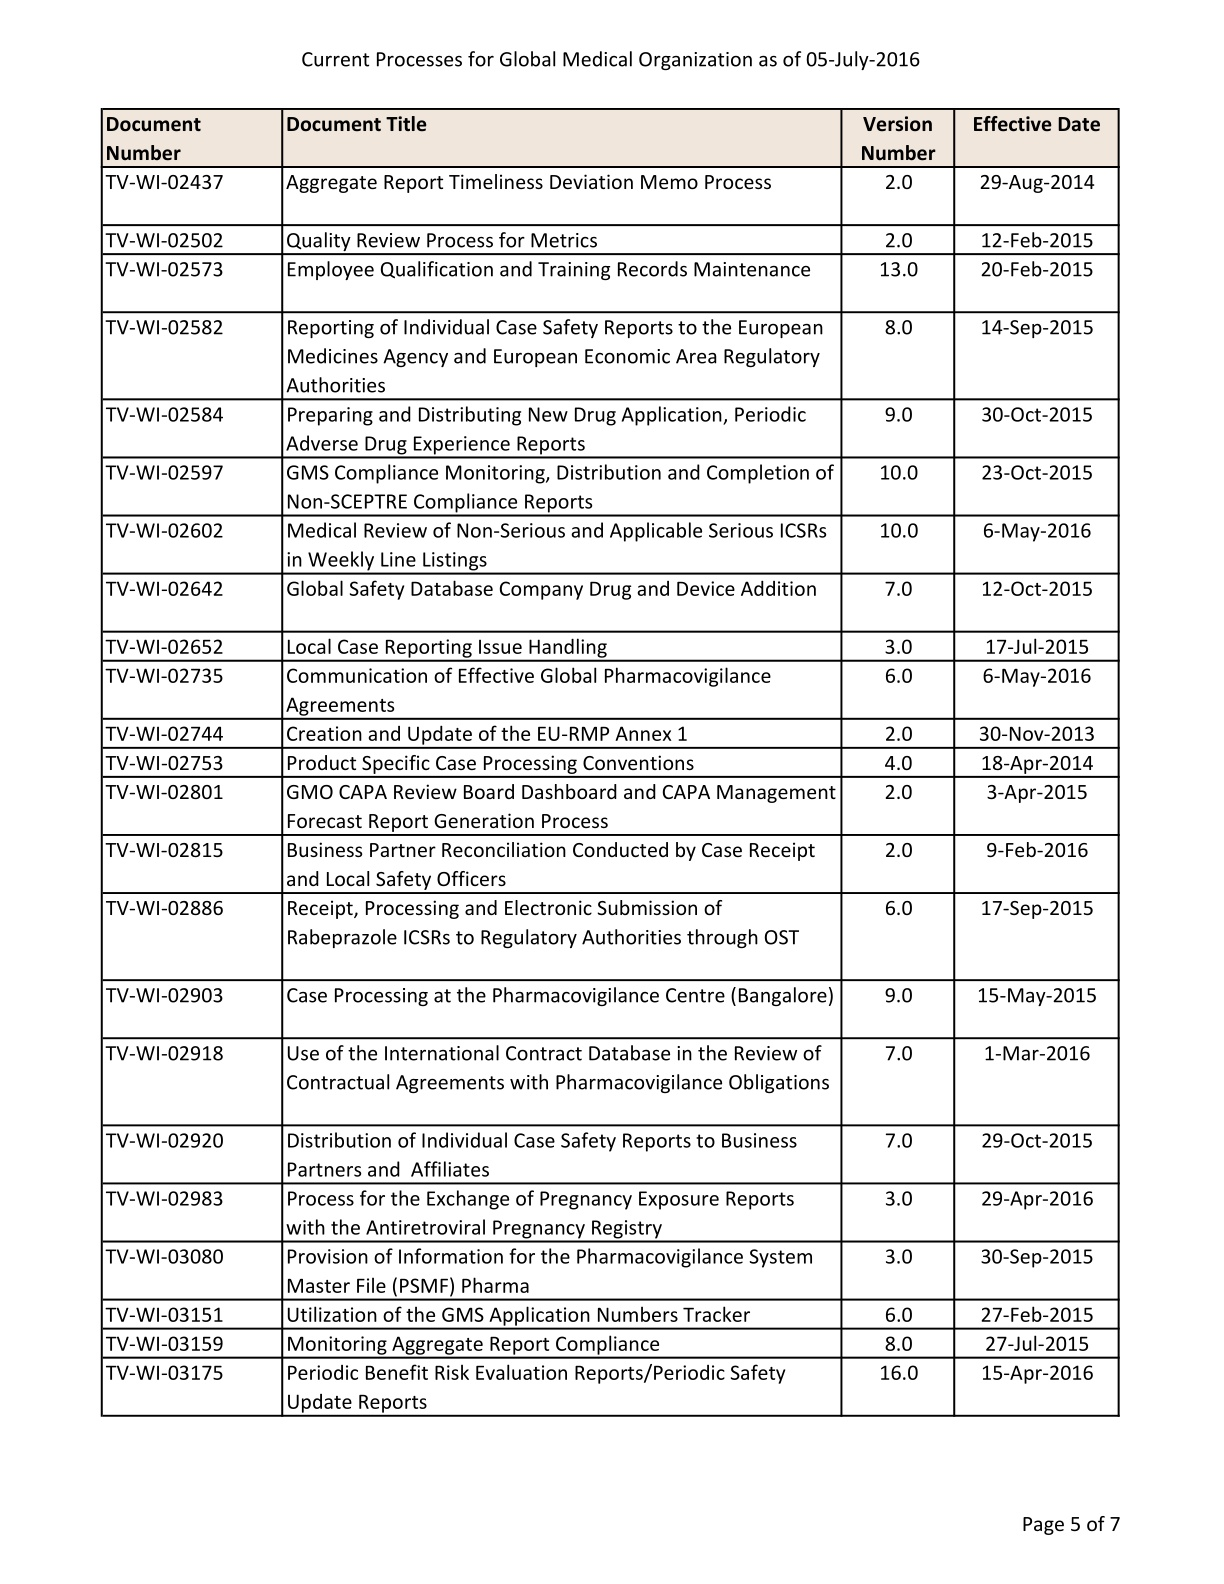full_lined: (100, 107, 1120, 1418)
